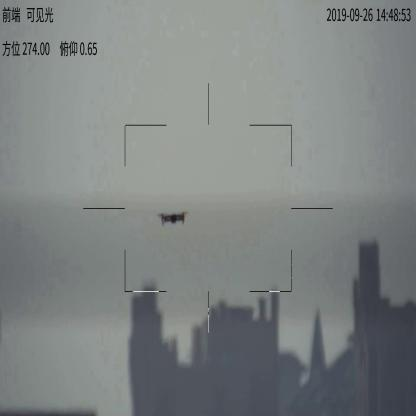uav: (156, 210, 192, 226)
